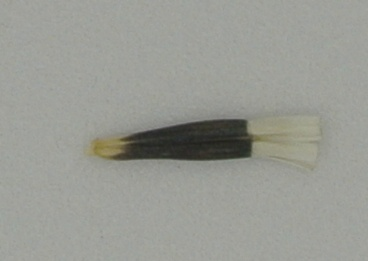เมล็ดดีติดกัน: (88, 112, 325, 178)
